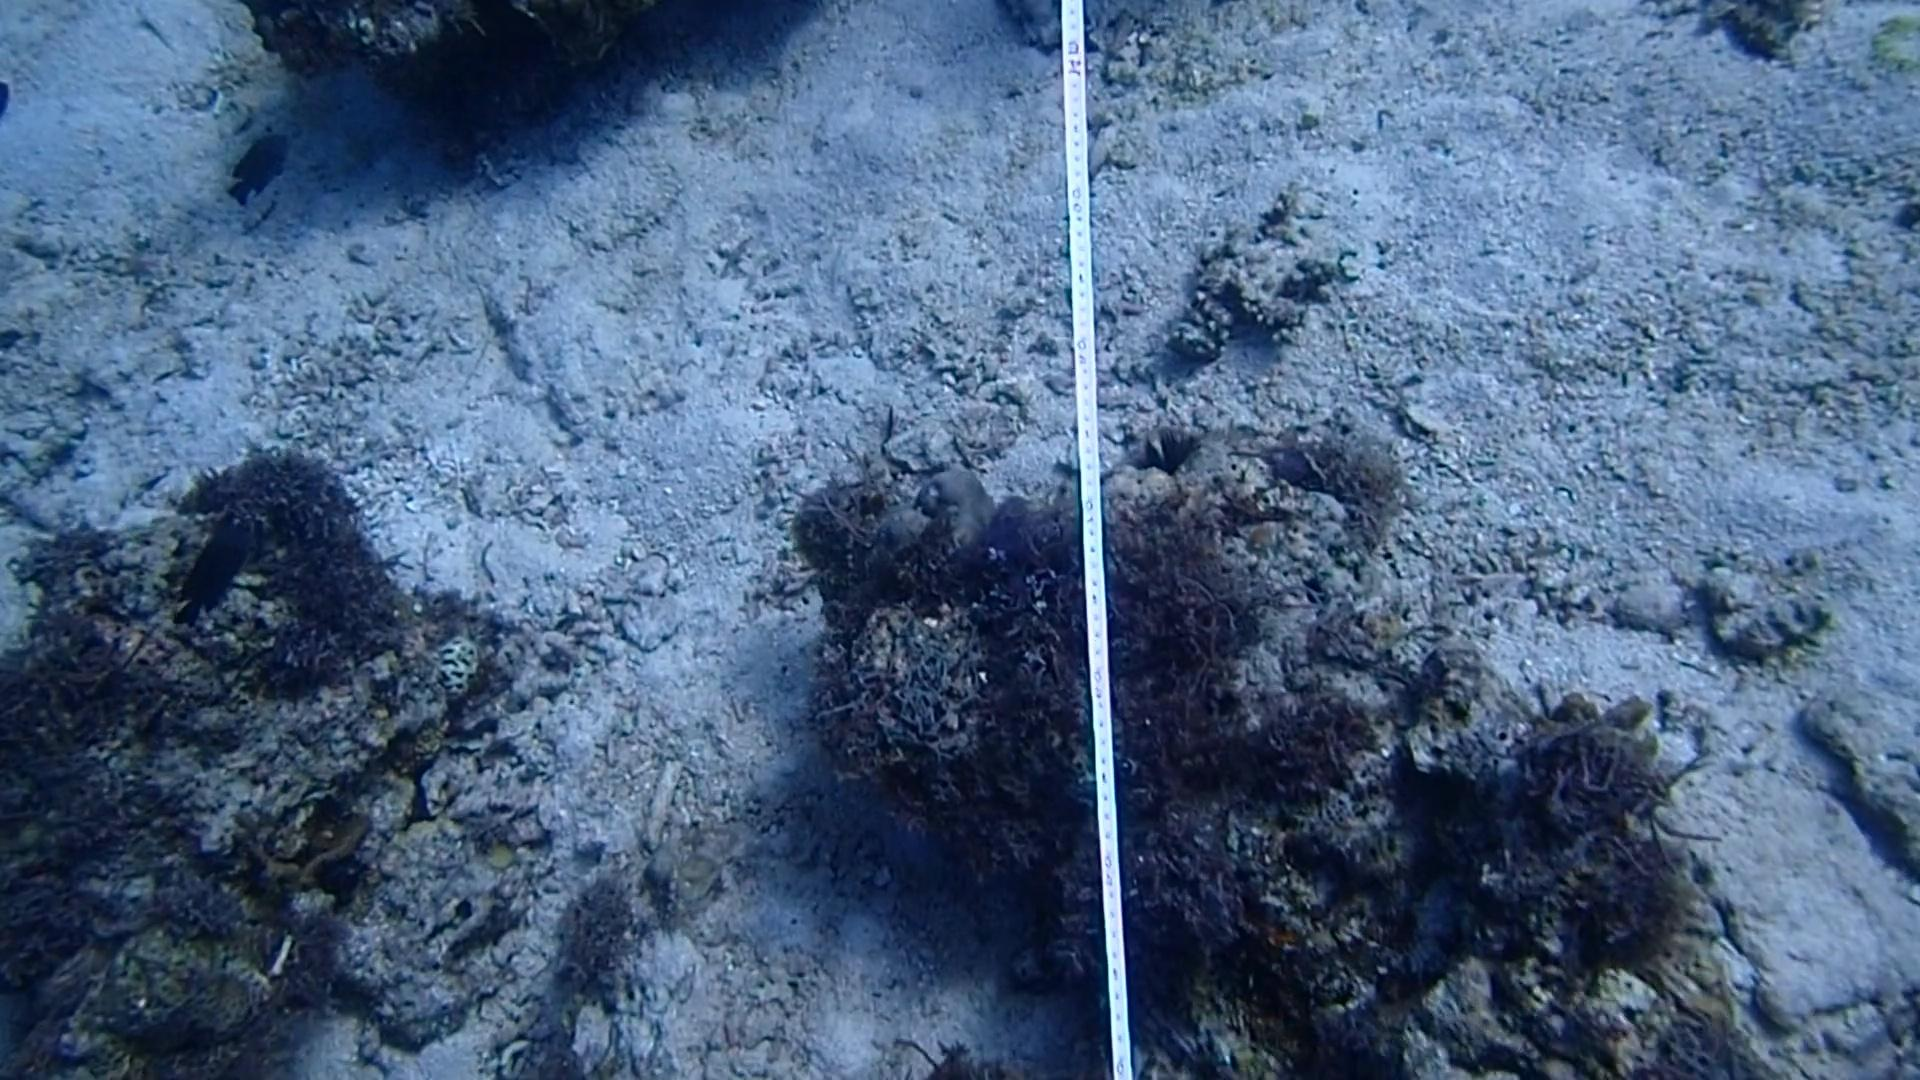Dark Fish: (165, 509, 265, 637), (227, 115, 303, 212)
